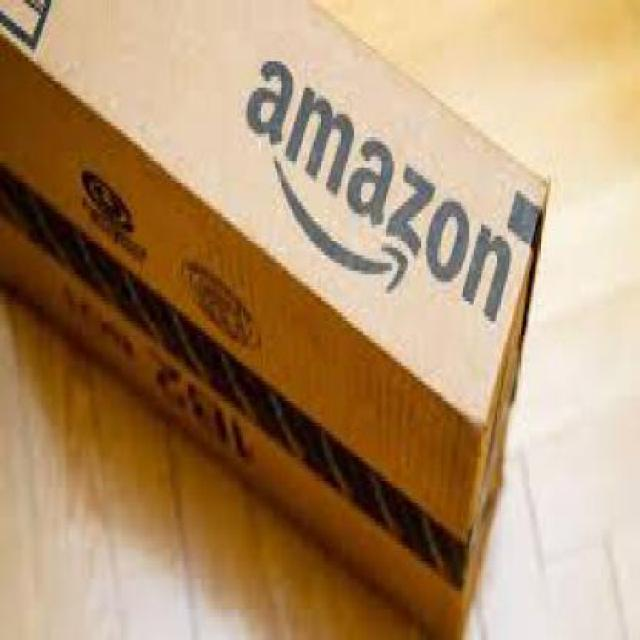cardboxes: (0, 0, 555, 637)
